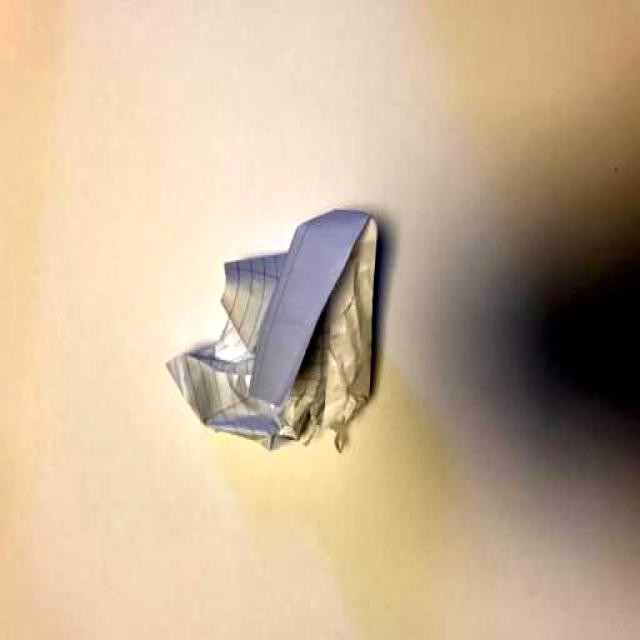Paper: (159, 209, 397, 459)
